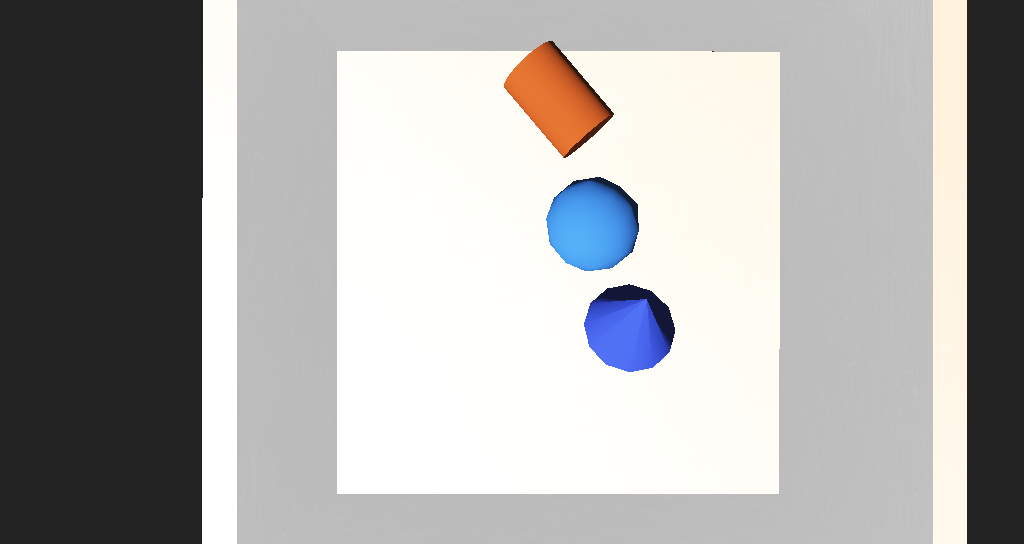cone: (468, 157, 542, 215)
cylinder: (515, 255, 603, 327)
sphere: (492, 227, 559, 270)
